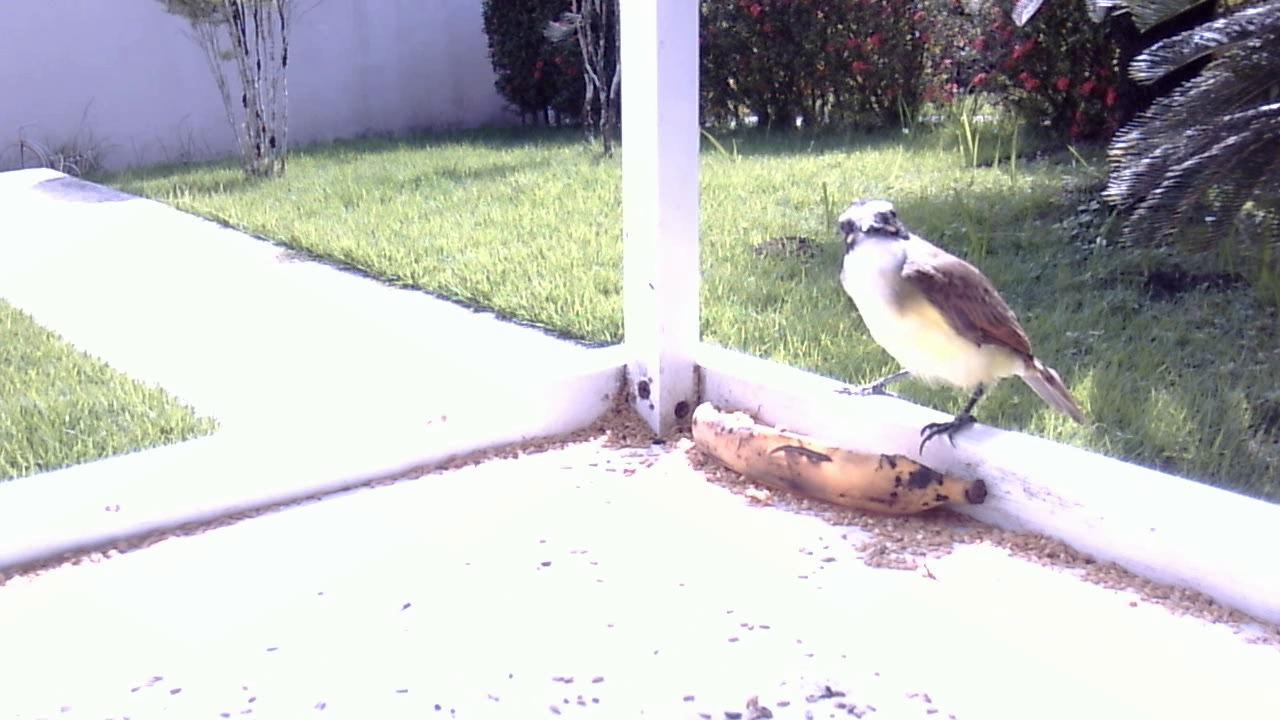bem_te_vi: (830, 190, 1094, 464)
